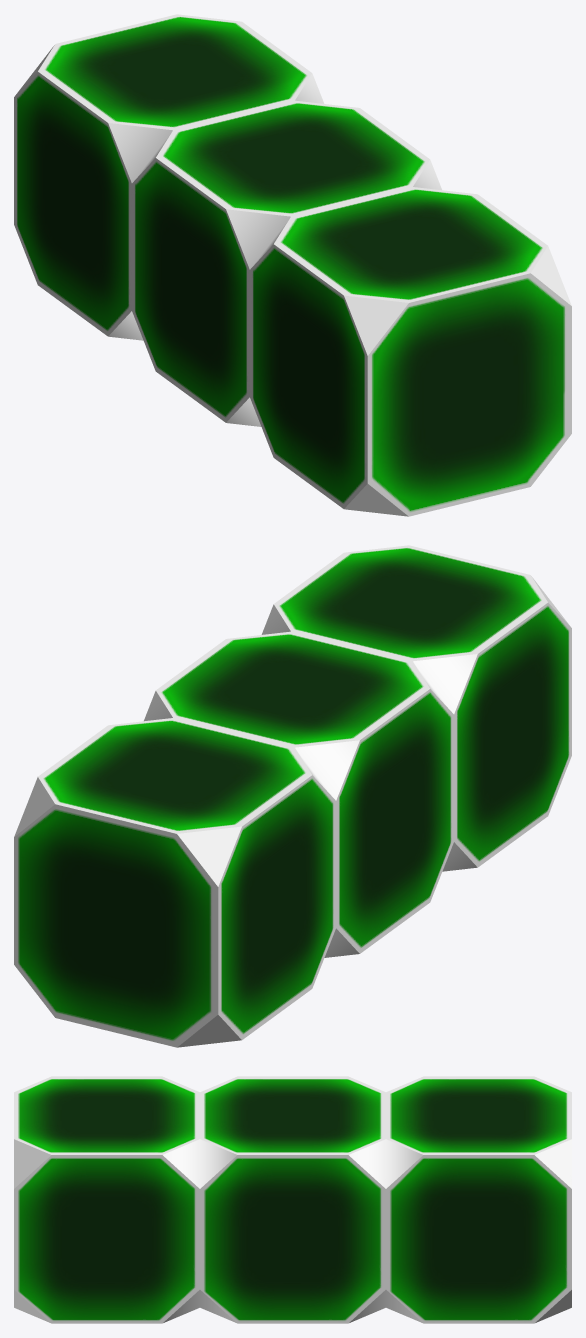
File: MG-ChJ-CS-01FangKuai-3.FBX
3 renders of one model, top to bottom at view 1: azimuth 30°, elevation 25°; view 2: azimuth 150°, elevation 25°; view 3: azimuth 270°, elevation 25°, orthographic. The views are drawn at different scales.
Parts seen in each view (by area): view 1: MG-ChJ-CS-01FangKuai-3; view 2: MG-ChJ-CS-01FangKuai-3; view 3: MG-ChJ-CS-01FangKuai-3.
Boxes of the visible parts, x1,y1,x2,y2 form: MG-ChJ-CS-01FangKuai-3: [14, 14, 571, 516]; MG-ChJ-CS-01FangKuai-3: [14, 545, 571, 1047]; MG-ChJ-CS-01FangKuai-3: [14, 1076, 571, 1323].
Bounding box in the file's own units: 39.37 × 39.37 × 118.
